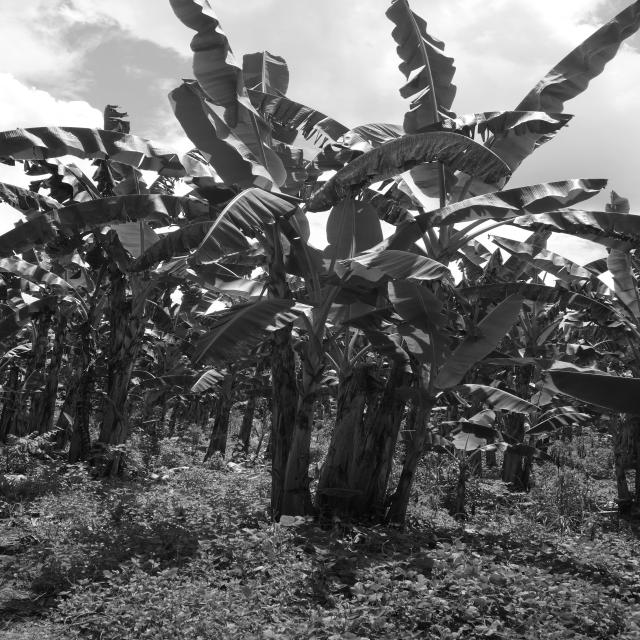Banana-plant: (316, 326, 386, 538), (94, 266, 154, 474), (290, 273, 336, 526), (400, 371, 432, 528)
